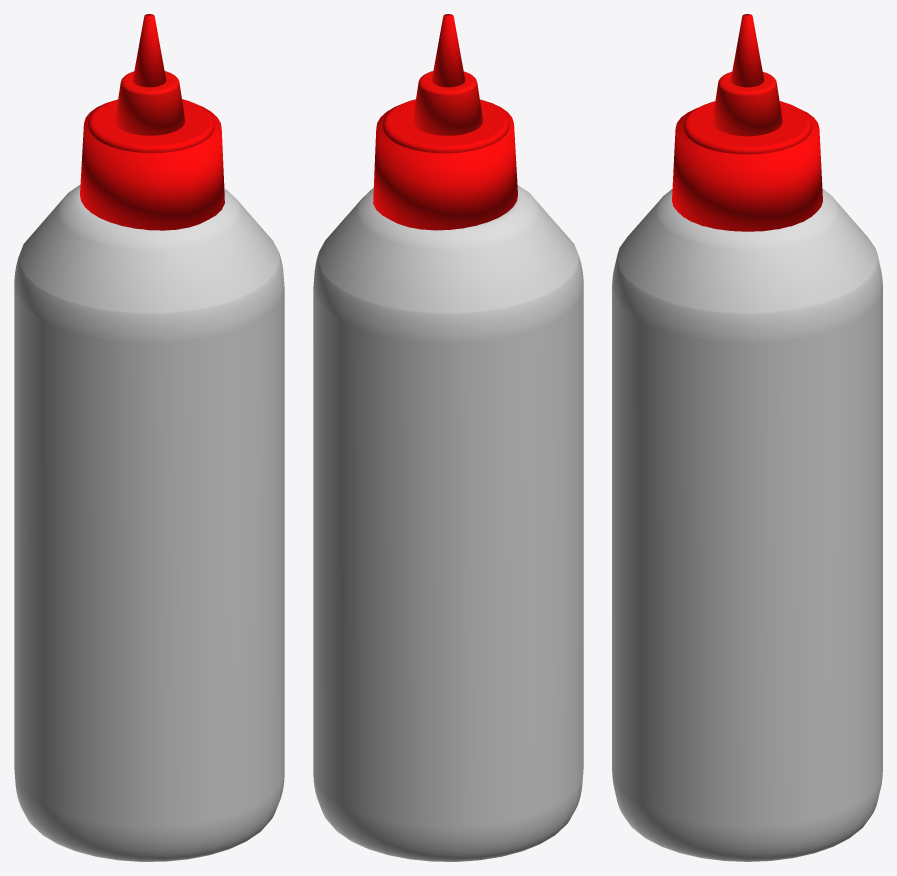
File: Glue.fbx
The picture shows the model from 3 angles, left to right: view 1: azimuth 30°, elevation 25°; view 2: azimuth 150°, elevation 25°; view 3: azimuth 270°, elevation 25°; orthographic projection.
Visible parts, largest first — view 1: Cylinder, Cylinder.001, Cylinder.002, Cylinder.003, Cylinder.004; view 2: Cylinder, Cylinder.001, Cylinder.002, Cylinder.003, Cylinder.004; view 3: Cylinder, Cylinder.001, Cylinder.002, Cylinder.003, Cylinder.004.
Boxes of the visible parts, x1,y1,x2,y2 form: Cylinder: (14, 184, 284, 861); Cylinder.001: (80, 102, 224, 230); Cylinder.002: (88, 99, 214, 153); Cylinder.003: (115, 71, 185, 135); Cylinder.004: (132, 14, 166, 87); Cylinder: (313, 185, 583, 861); Cylinder.001: (373, 99, 517, 230); Cylinder.002: (383, 99, 509, 153); Cylinder.003: (412, 71, 482, 135); Cylinder.004: (431, 14, 465, 87); Cylinder: (612, 188, 882, 861); Cylinder.001: (672, 108, 822, 231); Cylinder.002: (683, 101, 811, 154); Cylinder.003: (712, 71, 782, 136); Cylinder.004: (730, 14, 764, 87).
Size of the model in its own units: 200 by 649 by 200.
